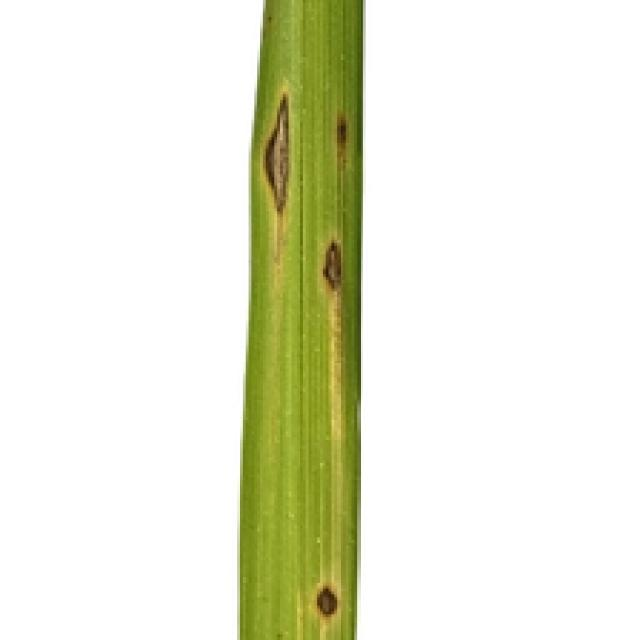Rice___Rice_Blast: (238, 0, 368, 637)
